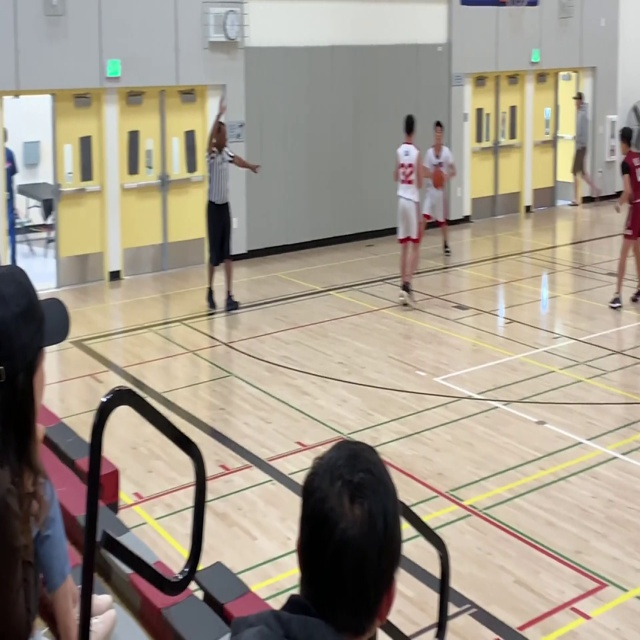Basketball: (431, 168, 445, 189)
